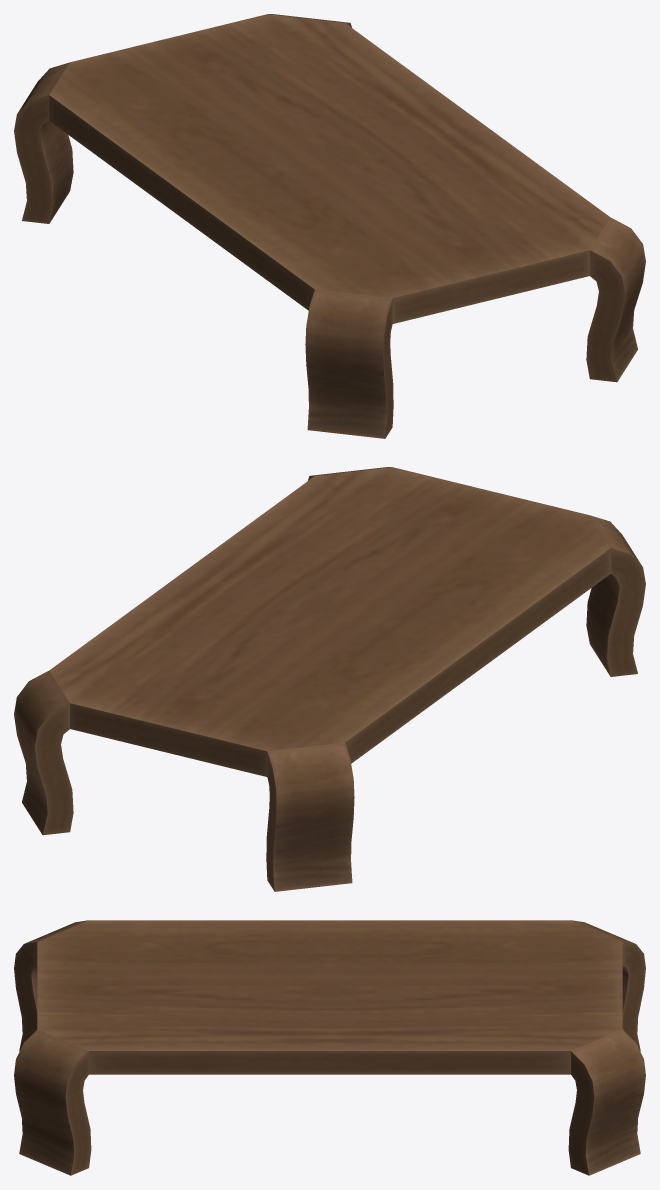
File: tukueD01.fbx
3 views of the same model, one above another, from view 1: azimuth 30°, elevation 25°; view 2: azimuth 150°, elevation 25°; view 3: azimuth 270°, elevation 25° (orthographic). The views are drawn at different scales.
Parts seen in each view (by area): view 1: tukueD01; view 2: tukueD01; view 3: tukueD01.
Part boxes in pixels (x1,y1,x2,y2): tukueD01: (14,14,645,438); tukueD01: (14,467,645,891); tukueD01: (14,920,645,1175).
Bounding box in the file's own units: 207 × 75 × 367.
